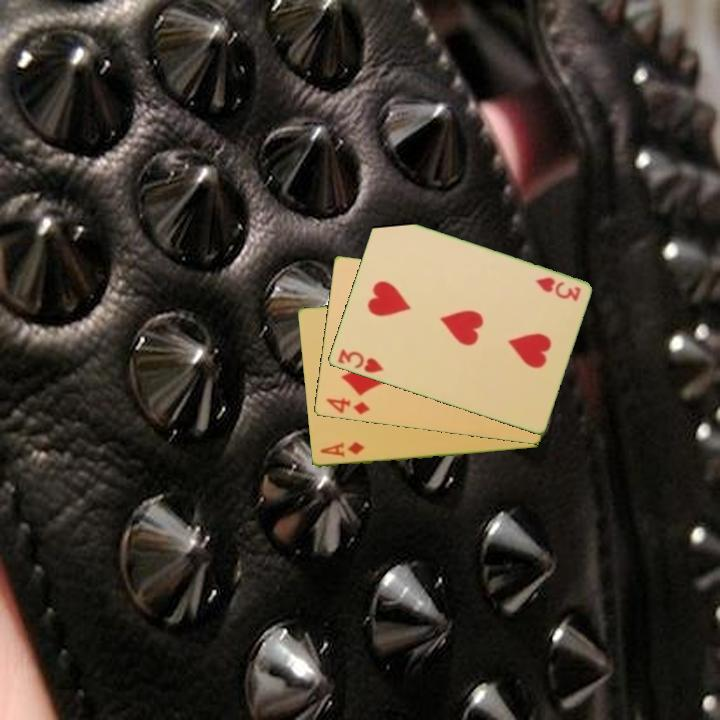3h: (334, 345, 386, 376), (532, 274, 583, 304)
4d: (323, 395, 372, 418)
Ad: (316, 439, 367, 460)
